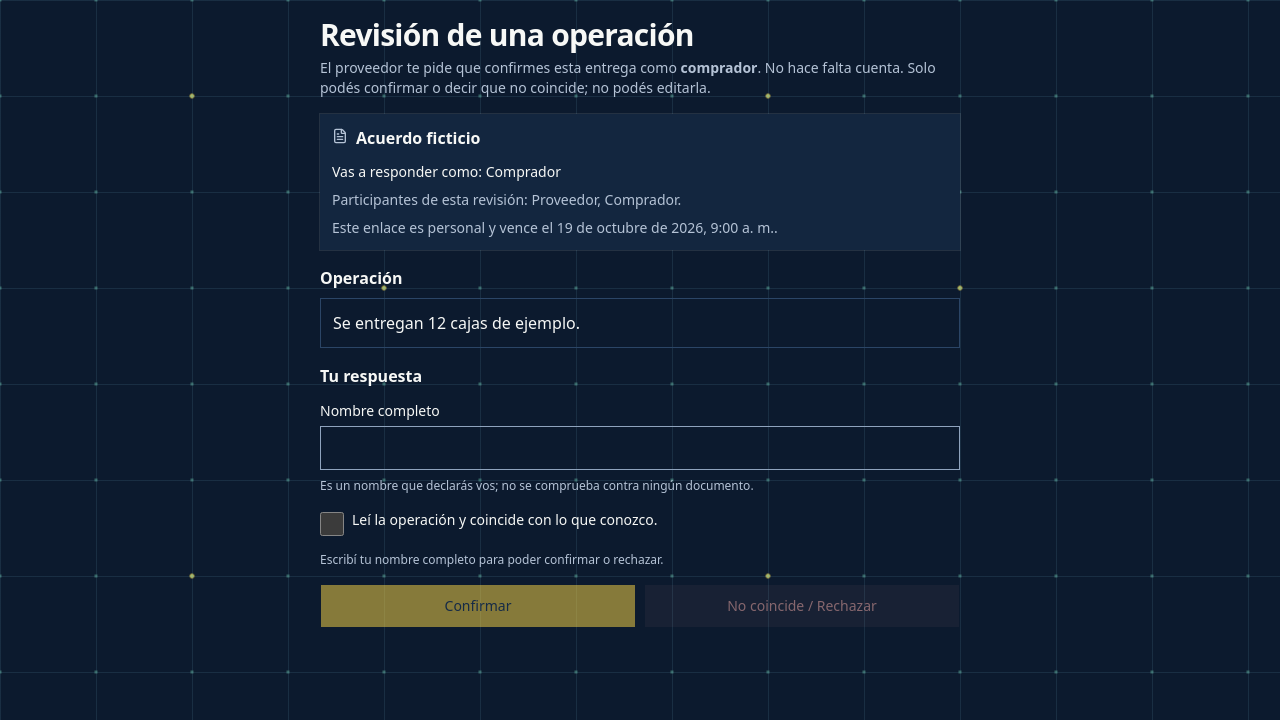
Scenario: ConfirmationContainer › respuesta 409 ALREADY_RESPONDED → pantalla de enlace no disponible
Type "Juan Pérez" into the field labelled "Nombre completo".
click(640, 448); type("Juan Pérez")  # box [320,426,960,470]
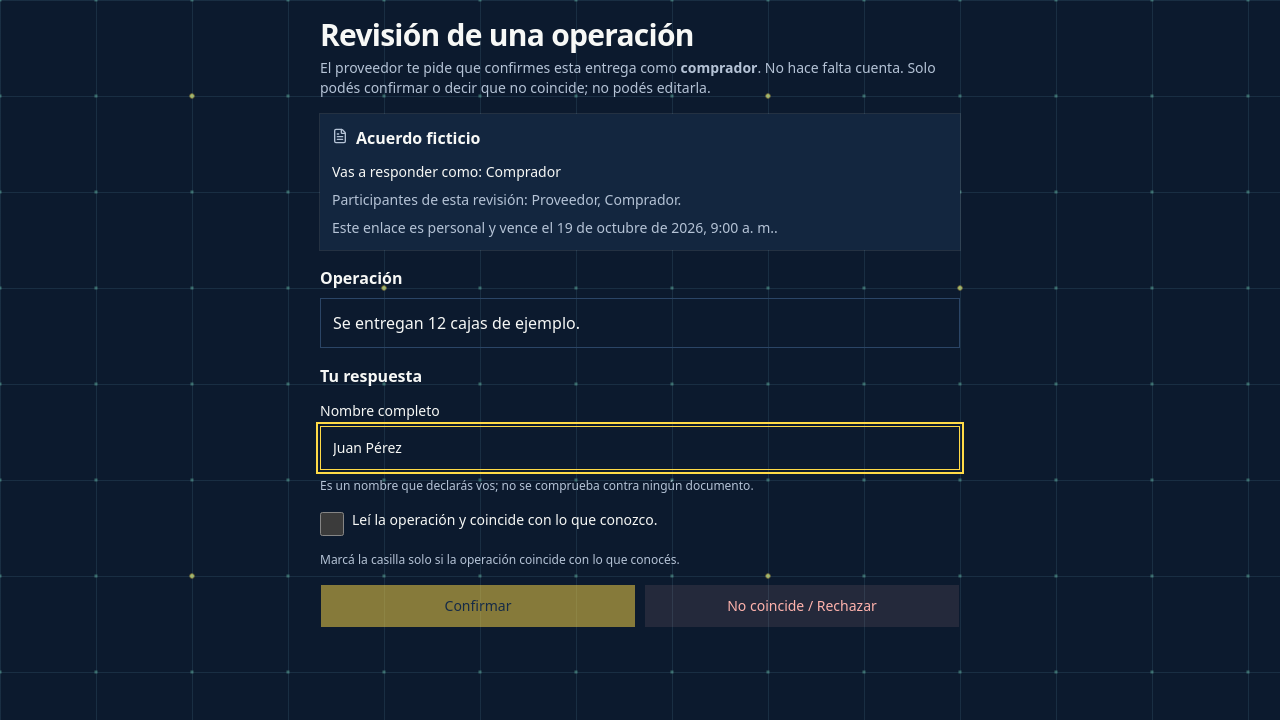
Click the checkbox.
click(332, 524)  # box [320,512,344,536]
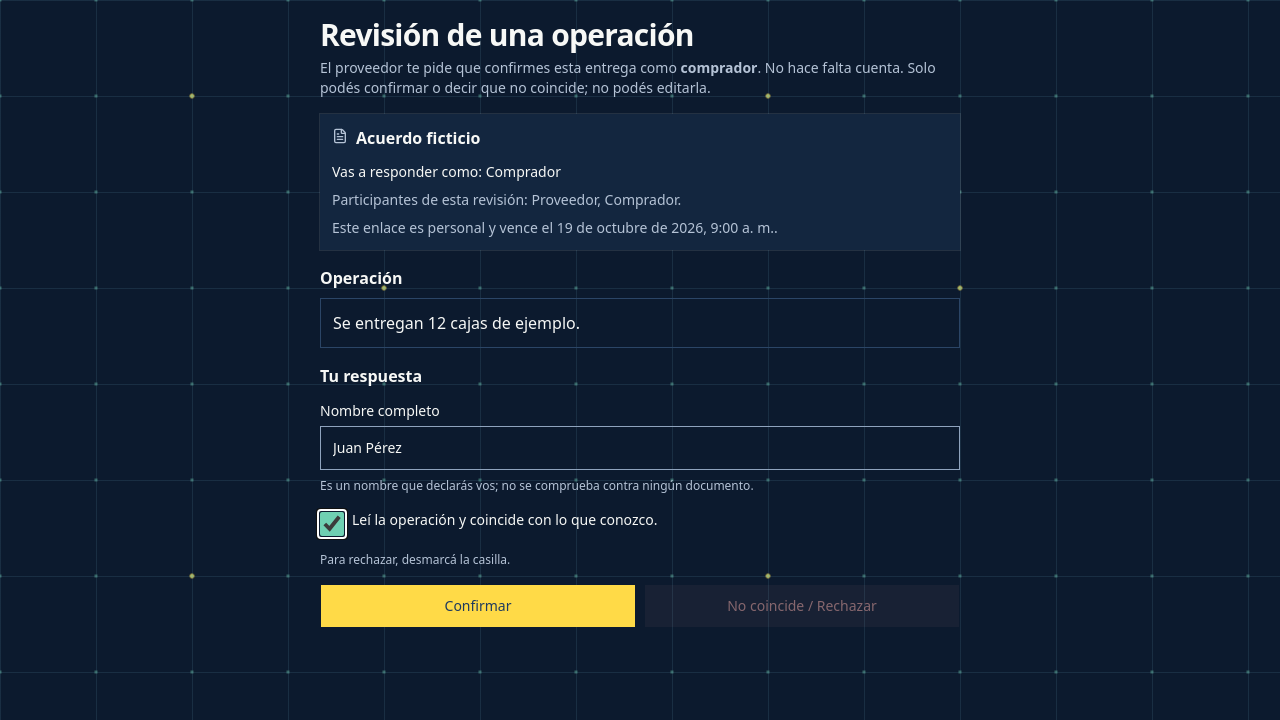
Click the button "Confirmar".
click(478, 606)  # box [320,584,636,628]
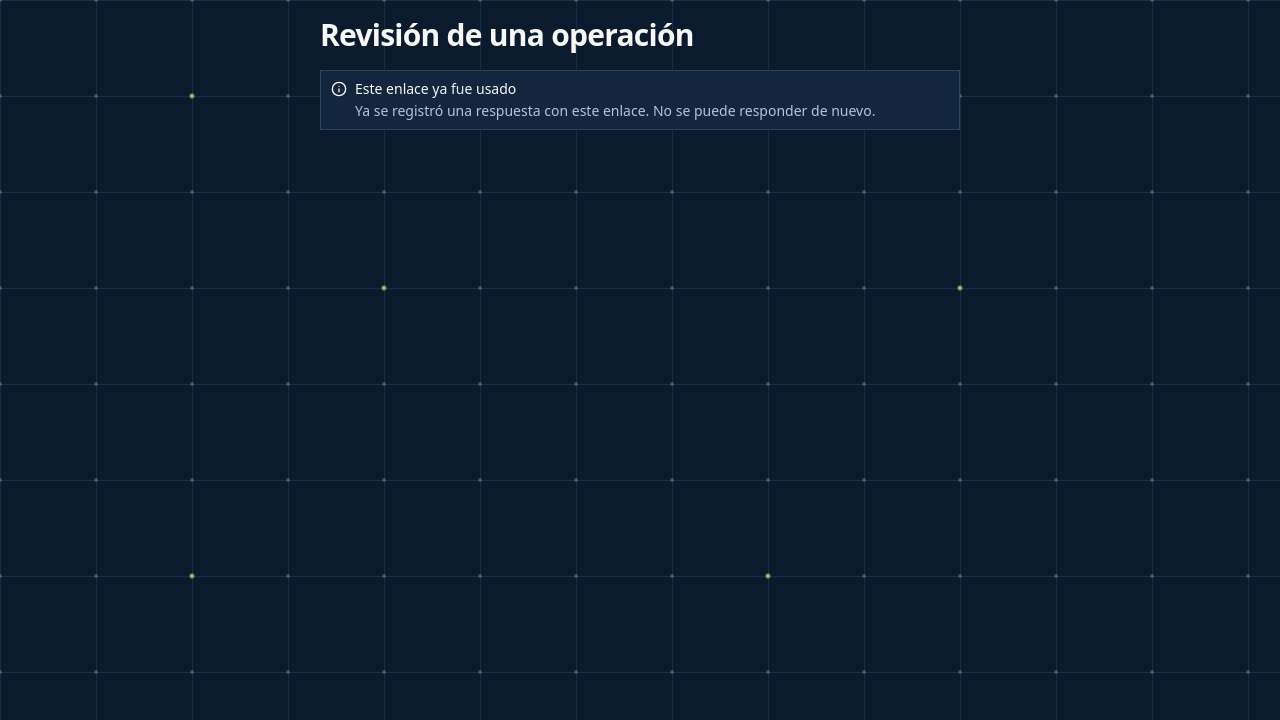
Check: the text "Este enlace ya fue usado" is shown, box [355,78,516,98]
Check: the checkbox is gone
